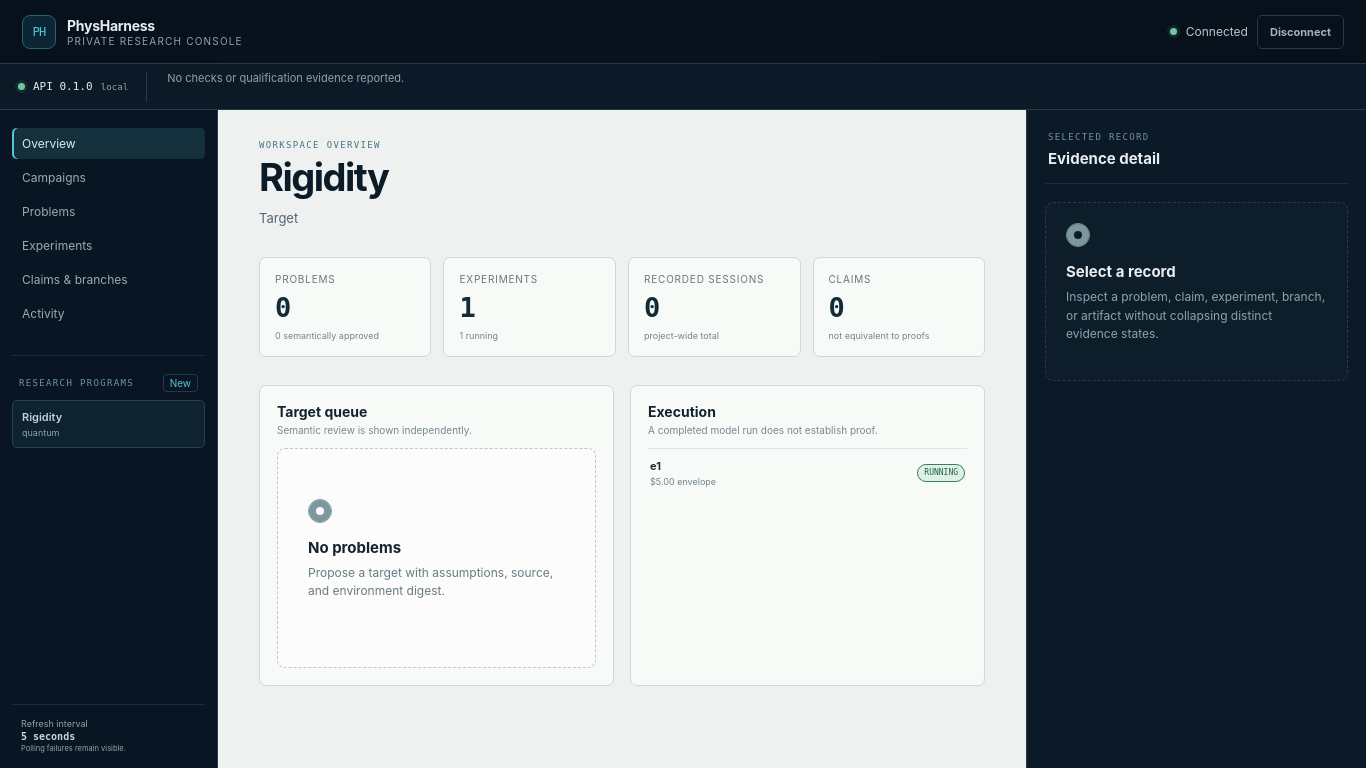
Scenario: ignores a stale export response after closing and reopening the export dialog
The width and height of the screenshot is (1366, 768).
Click the button with aria-label "open experiment rigidity".
click(695, 481)  # box [648,448,967,497]
(page scrolled)
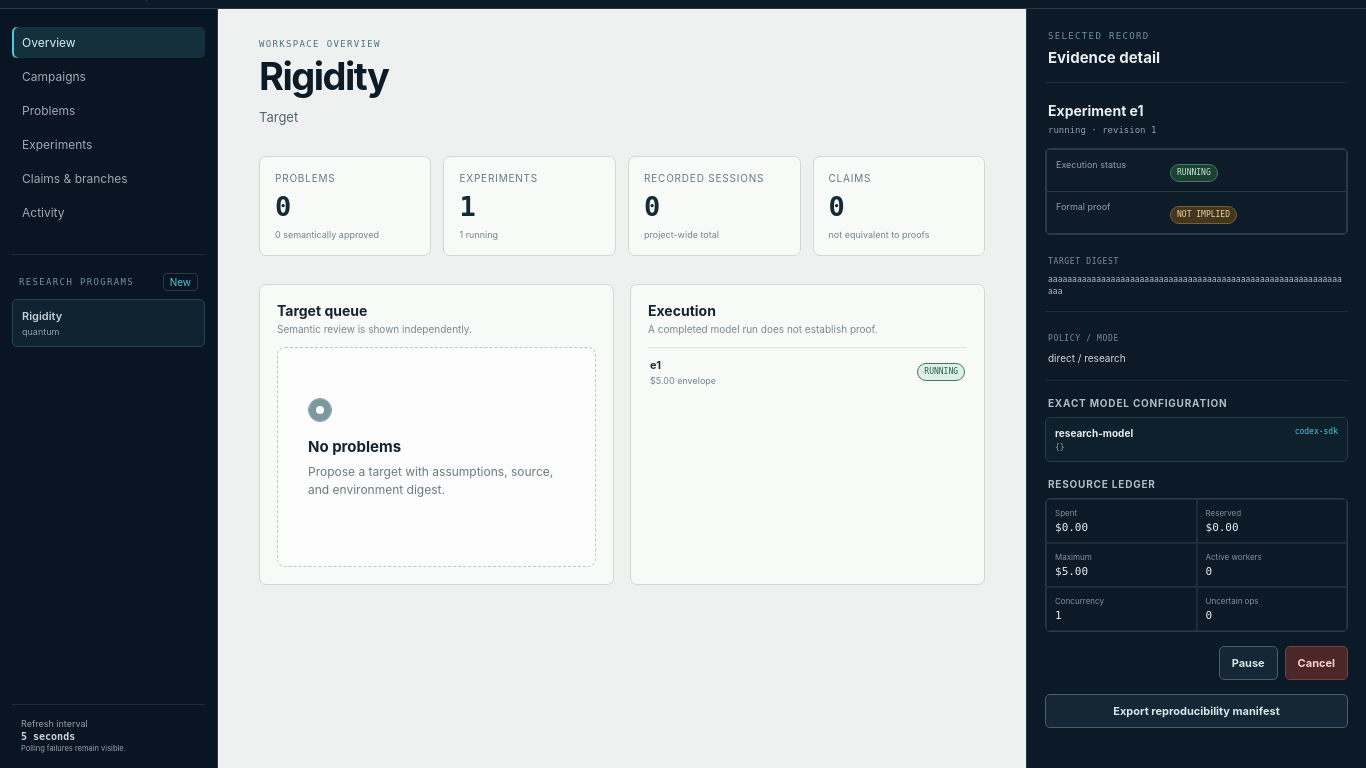
Click the button "Export reproducibility manifest".
click(1196, 711)  # box [1045,694,1348,728]
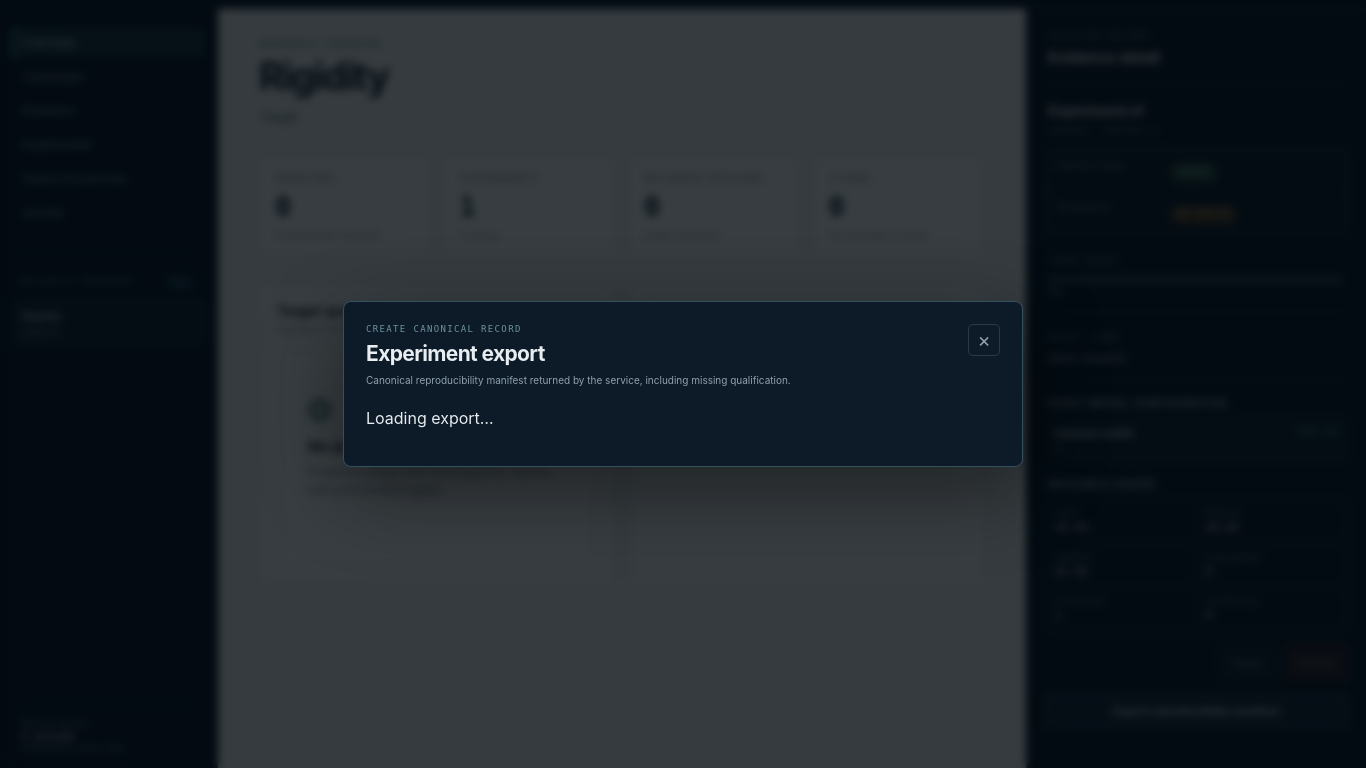
Click the button named "close dialog".
click(984, 340)  # box [968,324,1000,356]
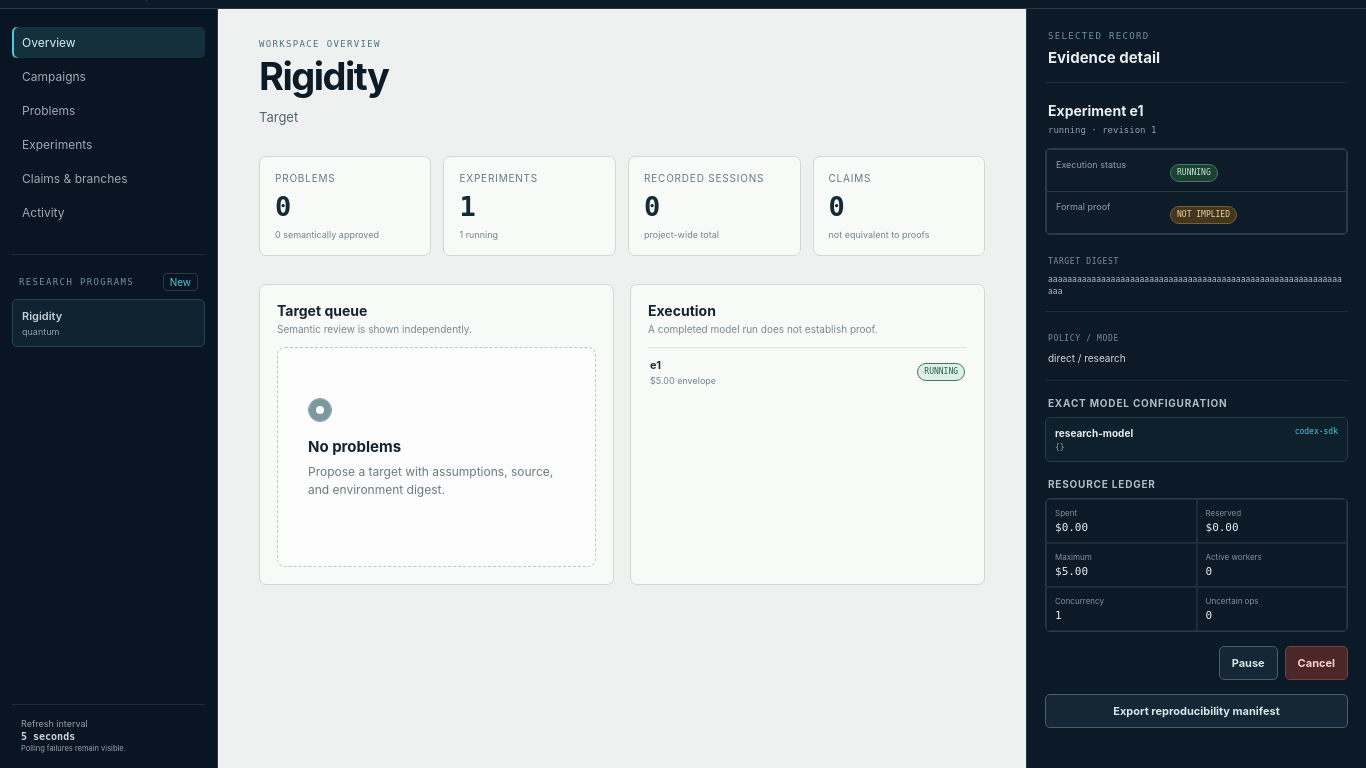
Click the button "Export reproducibility manifest".
click(1196, 711)  # box [1045,694,1348,728]
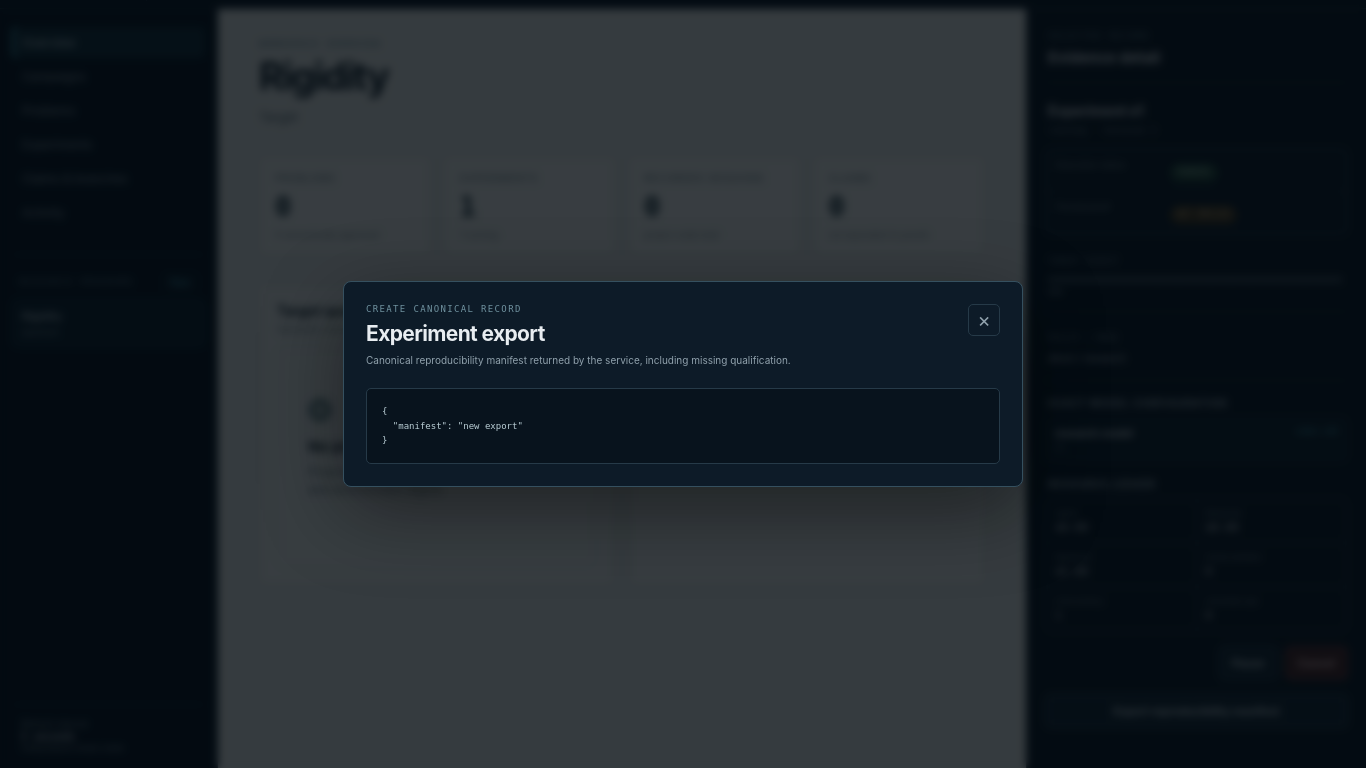
Now the text "{ \"manifest\": \"new export\" }" is shown, box [366,388,1000,464]
